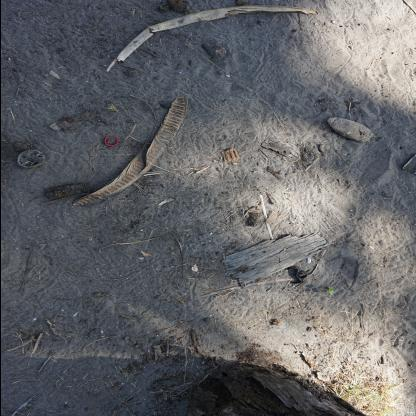plastik: (286, 267, 308, 285), (104, 137, 119, 147)
